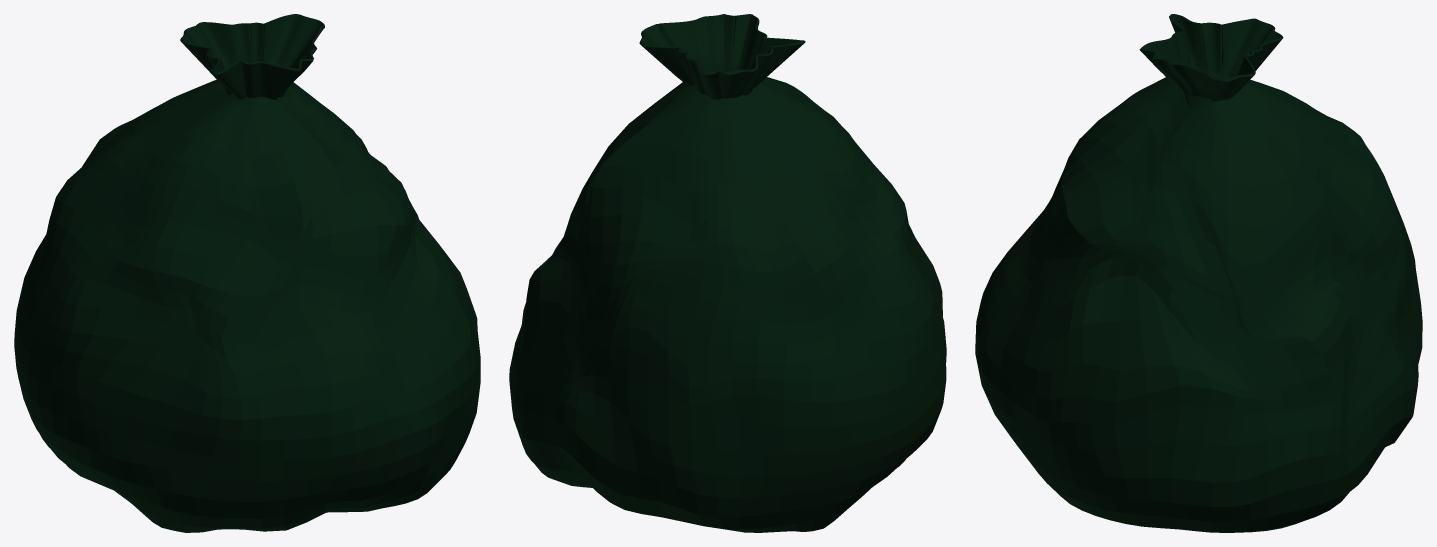
File: trash.fbx
3 renders of one model, left to right at view 1: azimuth 30°, elevation 25°; view 2: azimuth 150°, elevation 25°; view 3: azimuth 270°, elevation 25°, orthographic. The views are drawn at different scales.
Parts seen in each view (by area): view 1: trash; view 2: trash; view 3: trash.
Part boxes in pixels (x1,y1,x2,y2): trash: (14, 14, 480, 532); trash: (509, 14, 946, 532); trash: (975, 14, 1422, 532).
Size of the model in its own units: 174 by 190 by 175.
